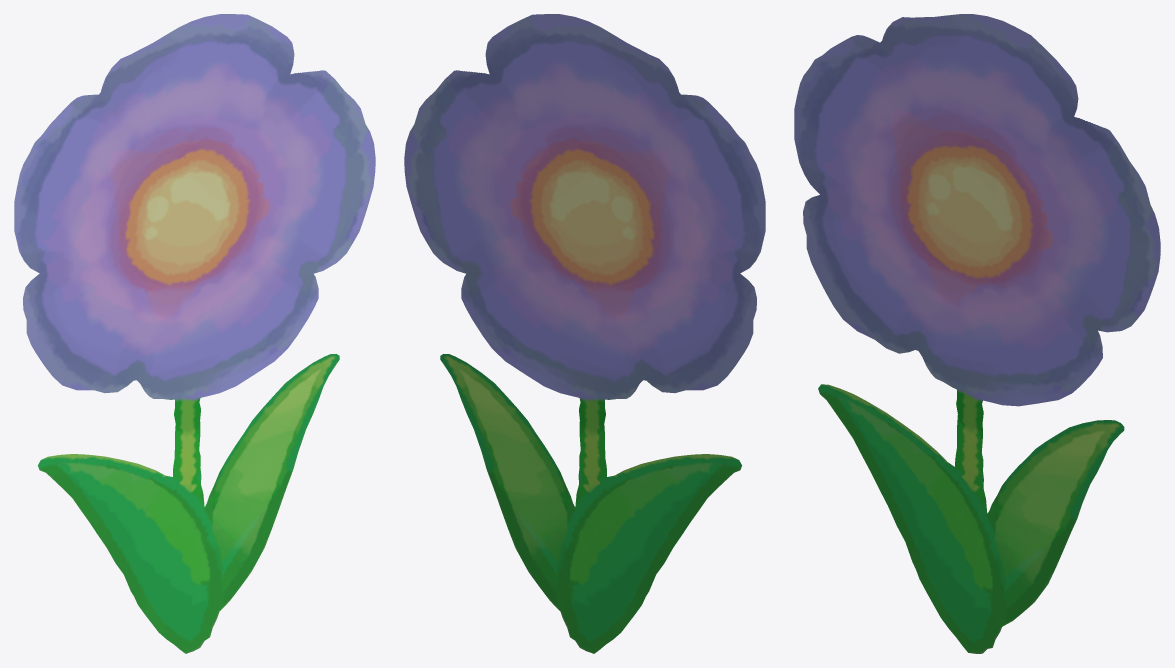
The model's file is Flower_Purple.obj.
The picture shows the model from 3 angles, left to right: view 1: azimuth 30°, elevation 25°; view 2: azimuth 150°, elevation 25°; view 3: azimuth 330°, elevation 25°; orthographic projection.
Visible parts, largest first — view 1: 平面; view 2: 平面; view 3: 平面.
Part boxes in pixels (x1,y1,x2,y2): 平面: (14,14,375,653); 平面: (404,14,765,653); 平面: (794,14,1160,653).
Size of the model in its own units: 0.6144 by 1.03 by 0.
1 material, 1 textured.
